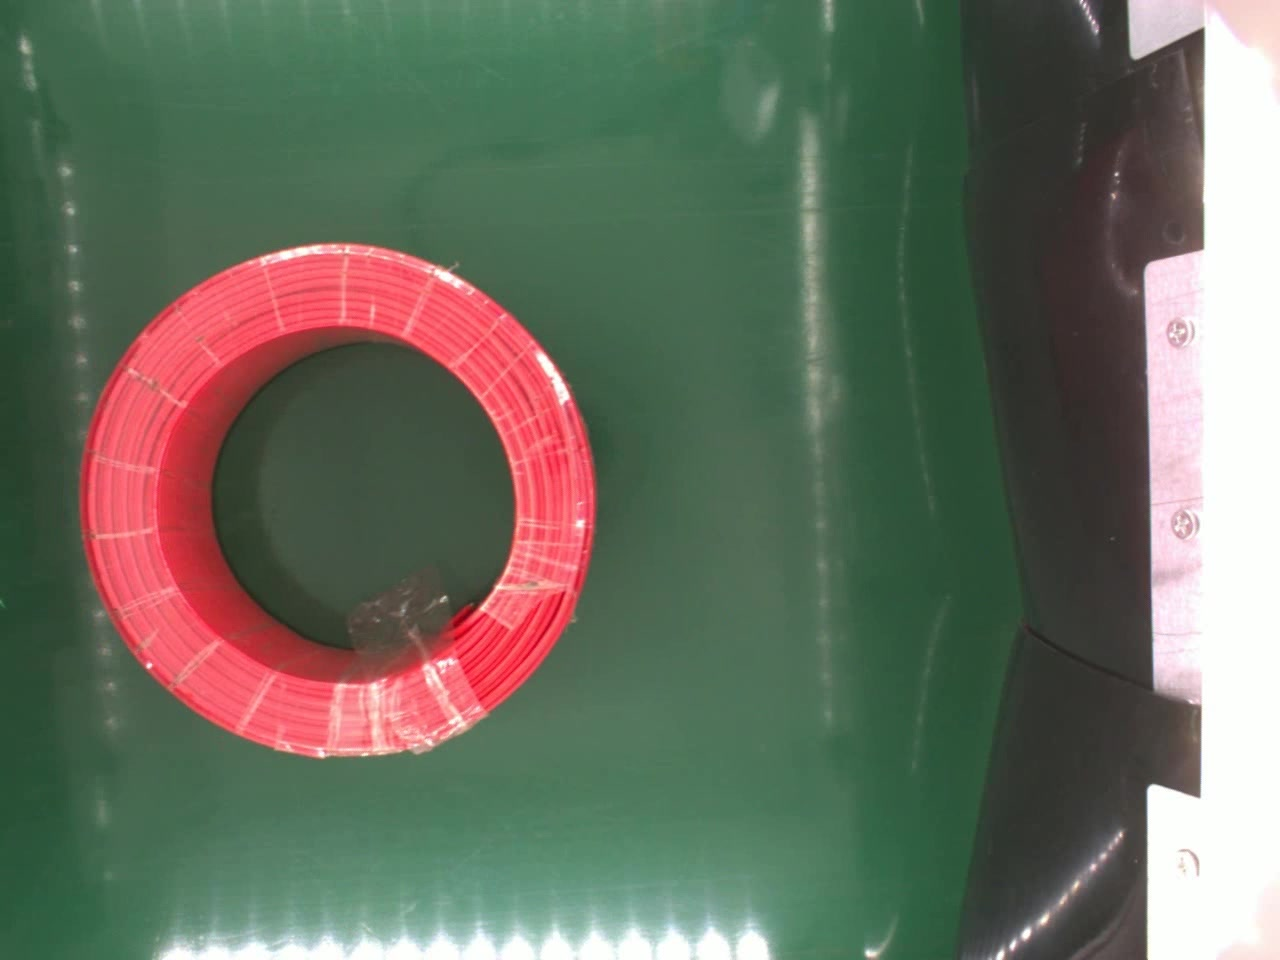red: (77, 241, 599, 760)
